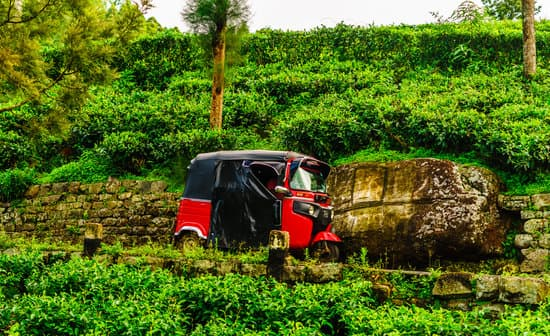threewheel: (172, 149, 342, 263)
